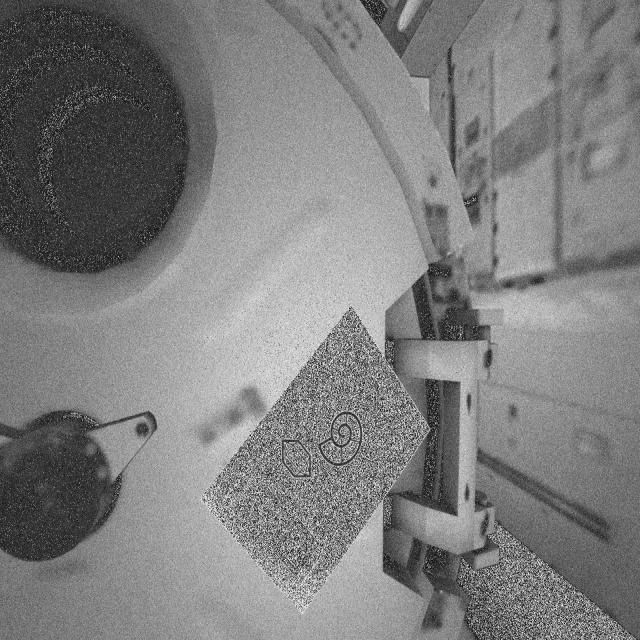crystal: (279, 432, 315, 483)
fossil: (318, 403, 367, 469)
